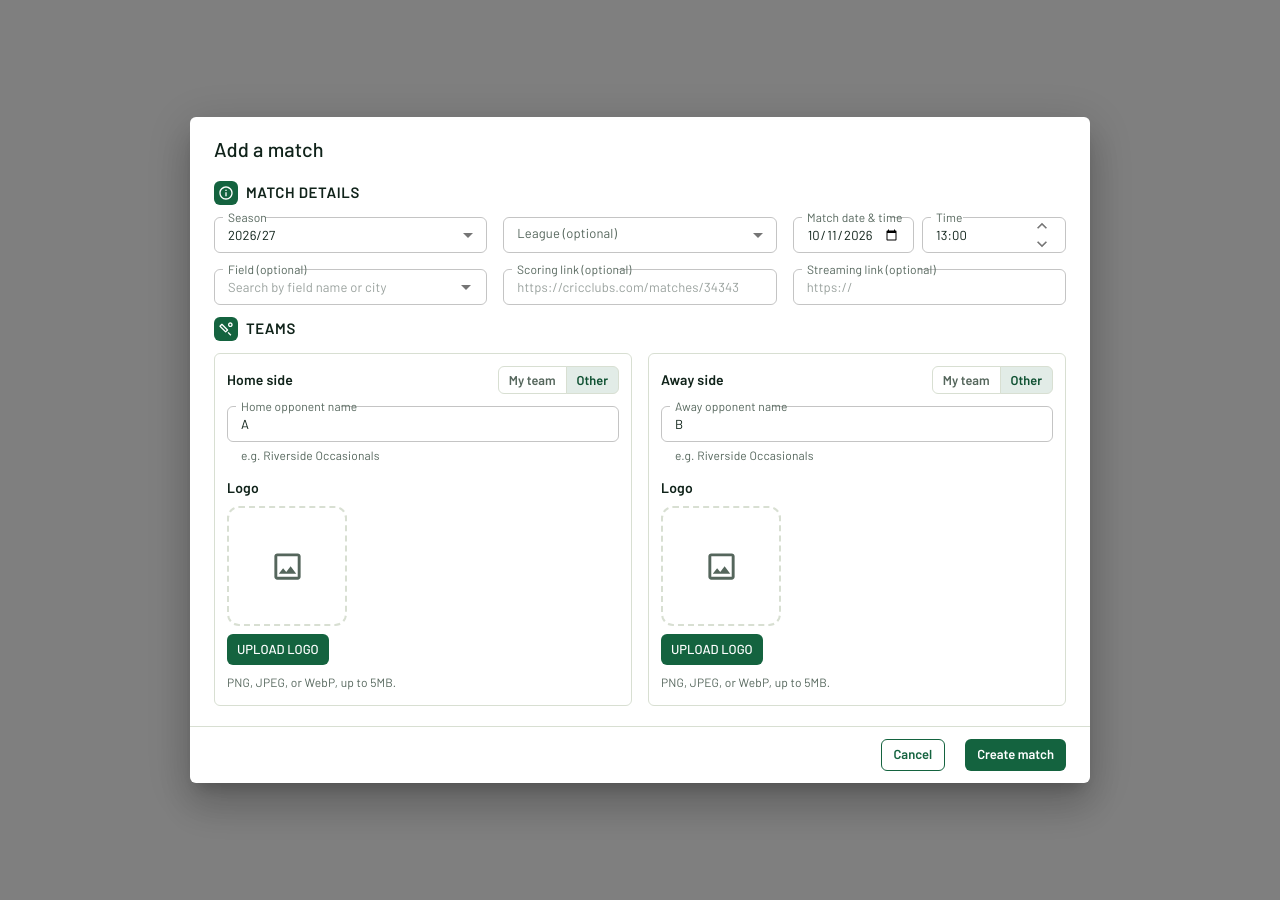
it: MatchFormDialog › shows the server problem and stays open when the create fails
Expected: the field labelled "Home opponent name" is shown, [227, 408, 619, 440]
Expected: the dropdown named "Season" reads "2026/27", [228, 227, 275, 243]
Click the button "Create match".
click(1016, 755)  # box [965, 739, 1066, 771]
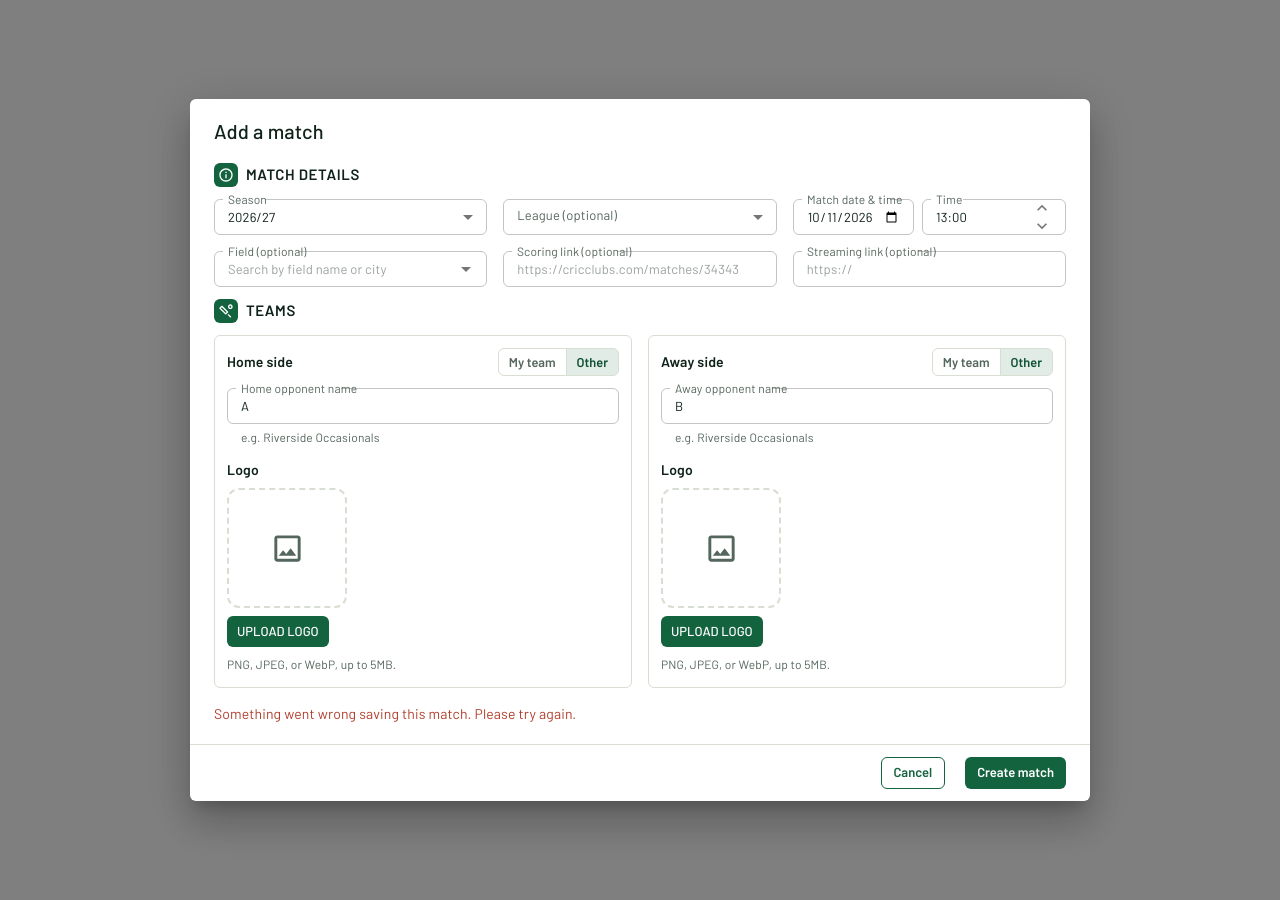
Result: the text "Something went wrong saving this match. Please try again." is shown at [214, 705, 576, 722]
